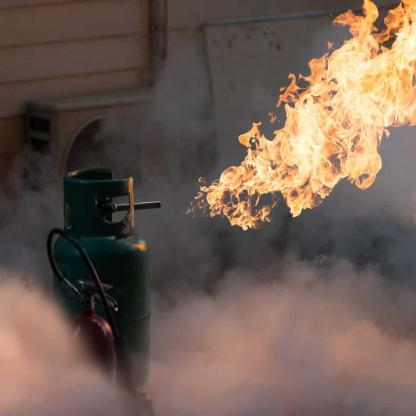fire: (197, 0, 415, 232)
smoke: (4, 27, 413, 416)
